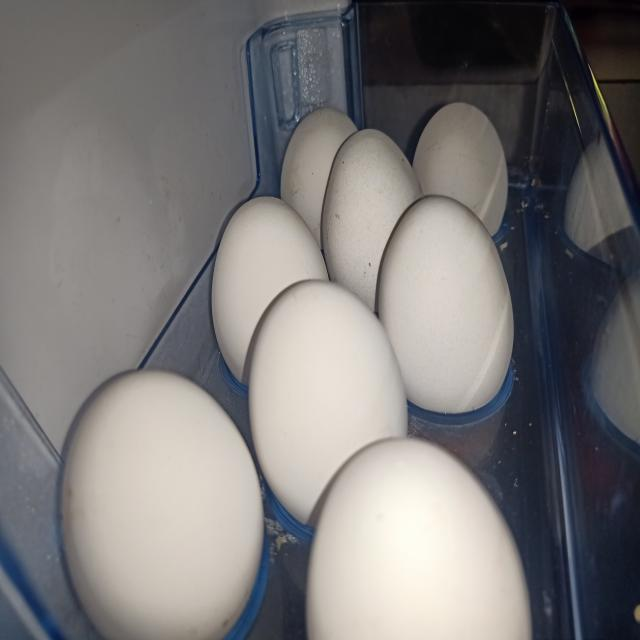Egg: (62, 371, 263, 639), (307, 439, 532, 640), (248, 279, 408, 524), (378, 195, 514, 414), (212, 196, 328, 381), (322, 128, 424, 310), (413, 101, 509, 235), (281, 106, 357, 247)
